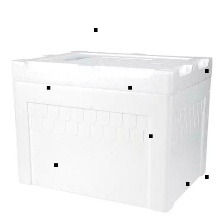foam_box: (4, 44, 218, 217)
